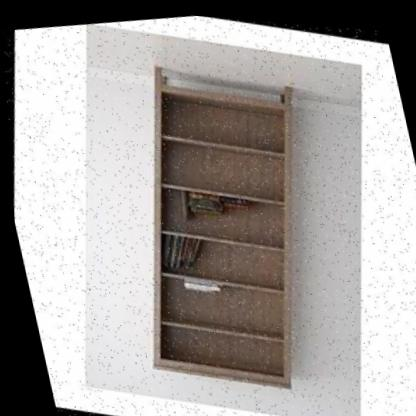Shelf: (79, 31, 359, 415)
